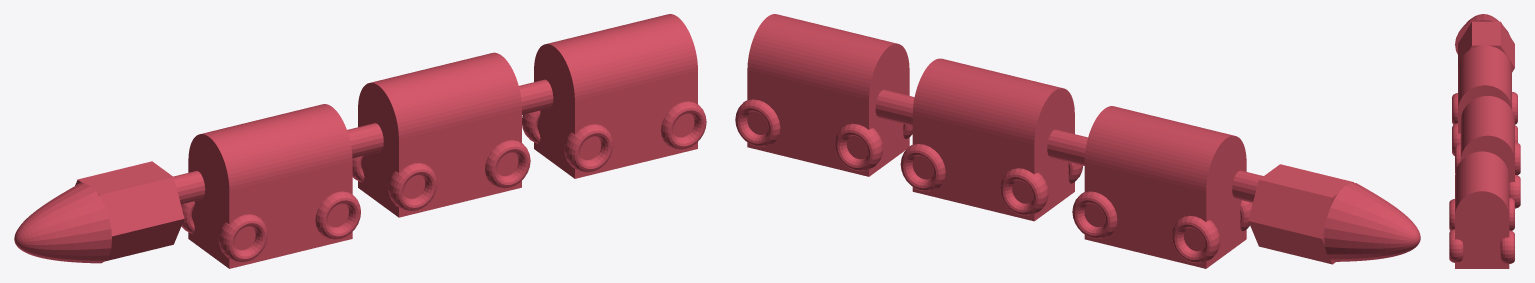
Rendered from Shiny Kieran.glb.
3 renders of one model, left to right at view 1: azimuth 30°, elevation 25°; view 2: azimuth 150°, elevation 25°; view 3: azimuth 270°, elevation 25°, orthographic. The views are drawn at different scales.
Parts seen in each view (by area): view 1: Mesh_Mesh_head_geo.001_lambert2SG.001; view 2: Mesh_Mesh_head_geo.001_lambert2SG.001; view 3: Mesh_Mesh_head_geo.001_lambert2SG.001.
Boxes of the visible parts, bbox=[...] form: Mesh_Mesh_head_geo.001_lambert2SG.001: bbox=[14, 14, 706, 268]; Mesh_Mesh_head_geo.001_lambert2SG.001: bbox=[735, 14, 1420, 268]; Mesh_Mesh_head_geo.001_lambert2SG.001: bbox=[1449, 14, 1520, 268].
Bounding box in the file's own units: 180 × 32 × 25.
